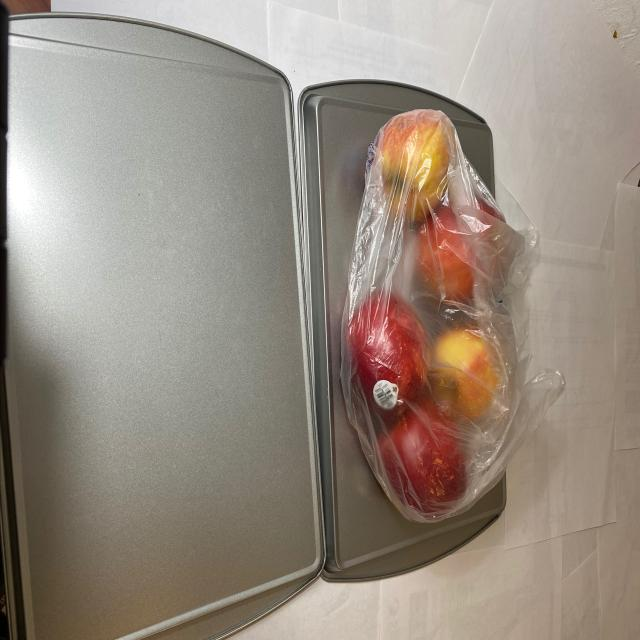apple: (341, 102, 509, 521)
